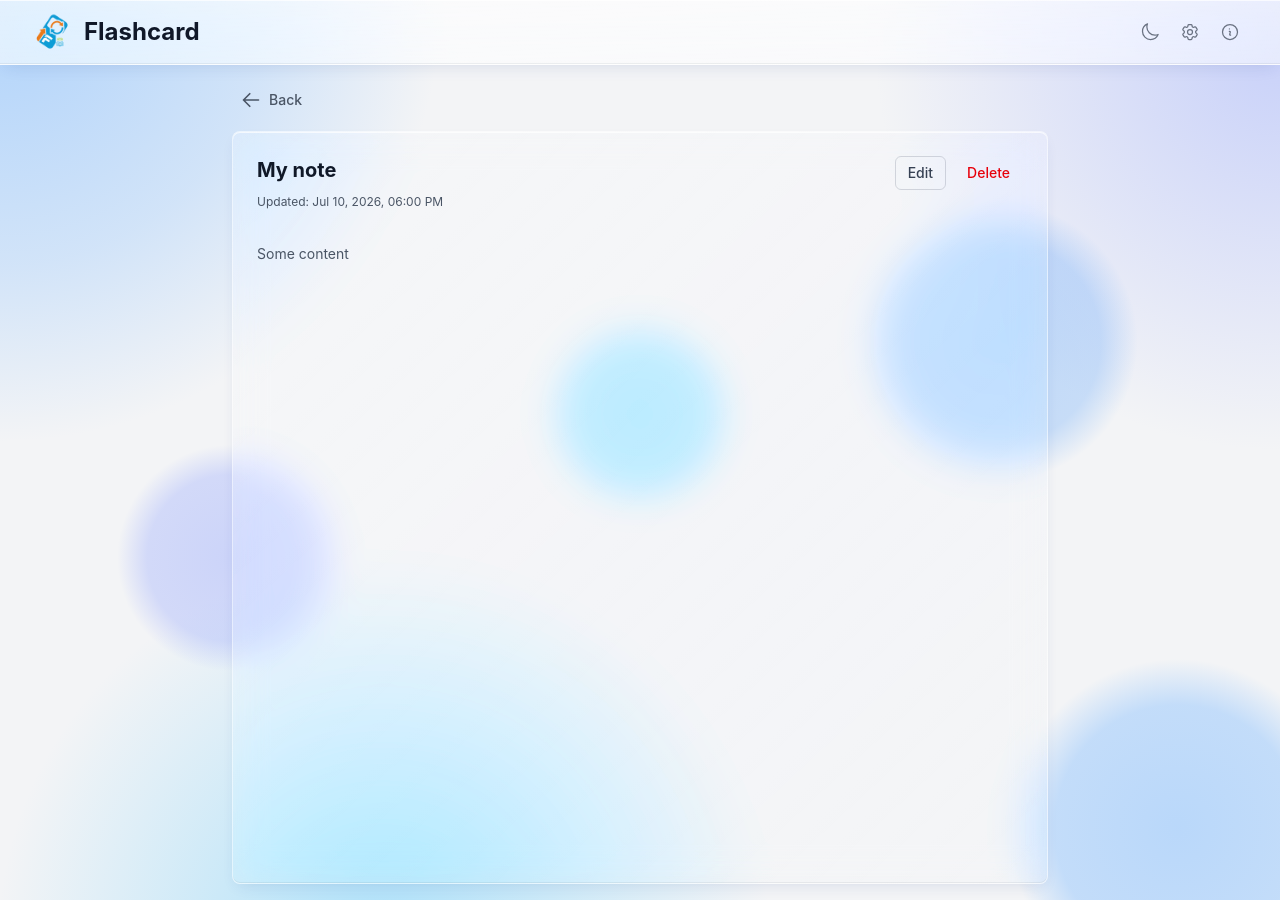
Test: NoteDetailPage unsaved changes › confirms before leaving when Back is pressed and the content was changed and the user discards
Expected: the heading "My note" is shown, [257, 156, 336, 184]
Click the button "Edit": (920, 173) [895, 156, 946, 190]
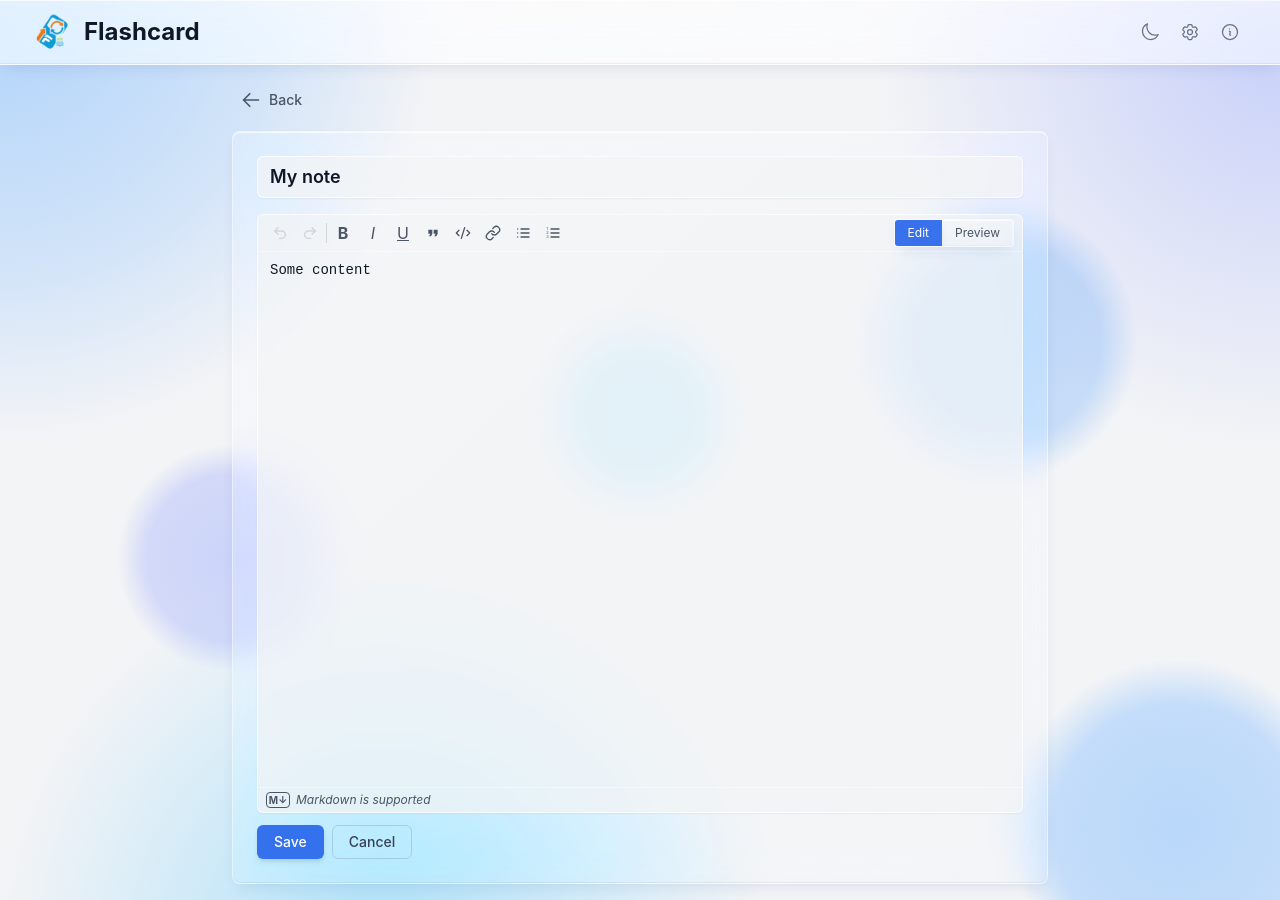
Replace the text in the text box with placeholder "Write your note..." with "Edited text": (640, 520) [258, 252, 1022, 787]
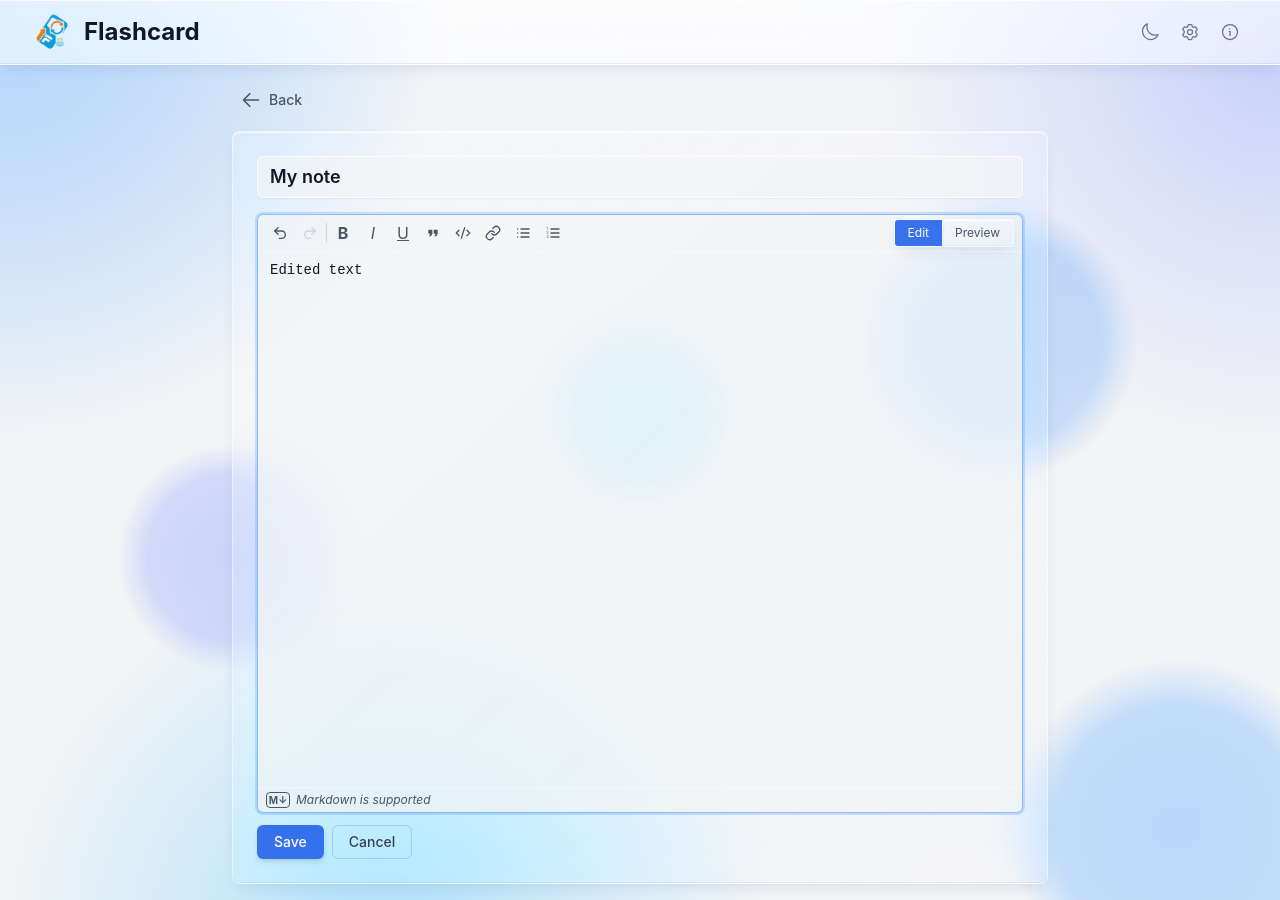
Click the button with aria-label "Go back": (272, 100) [232, 81, 311, 119]
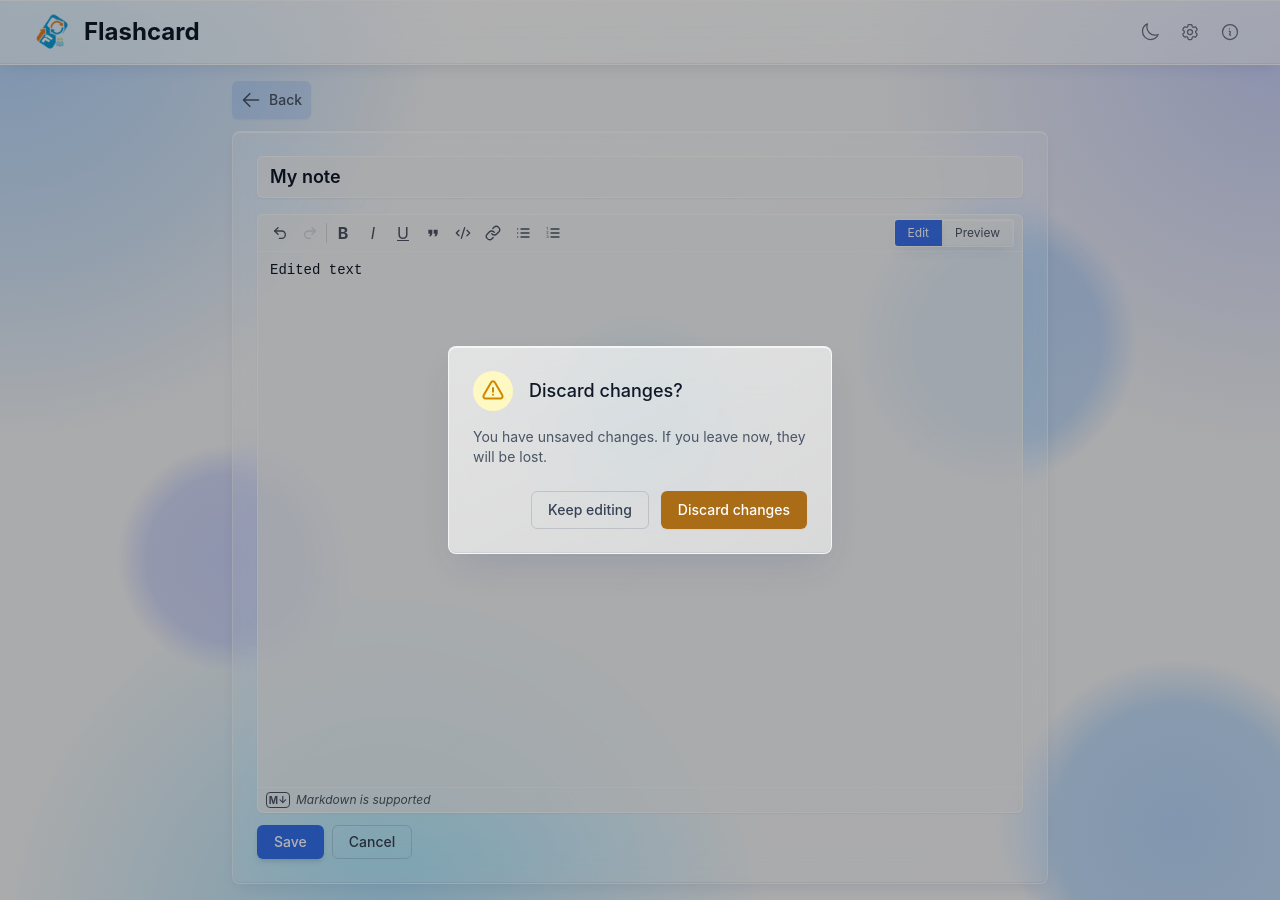
Now the heading "Discard changes?" is shown, box [529, 377, 683, 405]
Click the button "Discard changes": (734, 510) [661, 491, 807, 529]
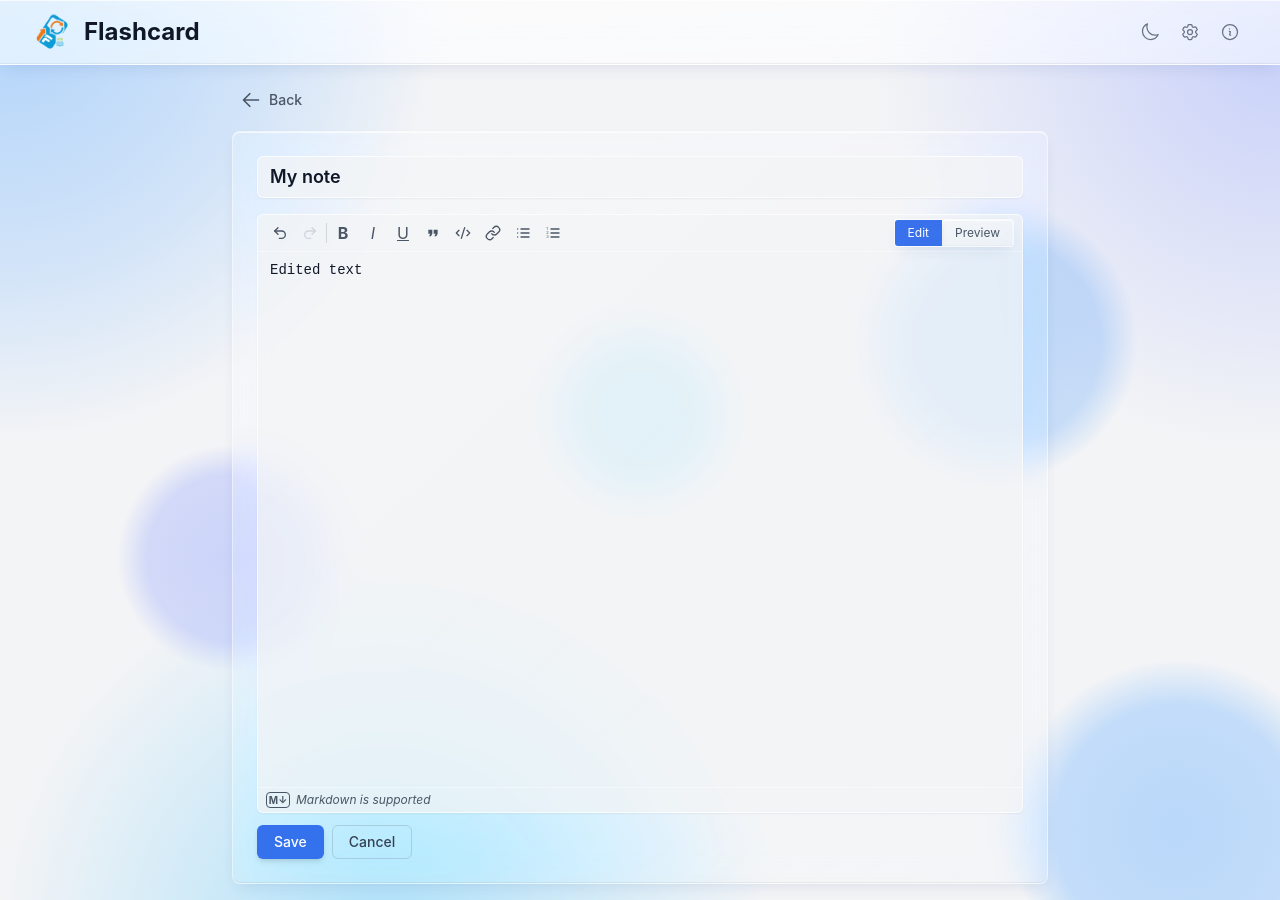
Now the heading "Discard changes?" is gone
